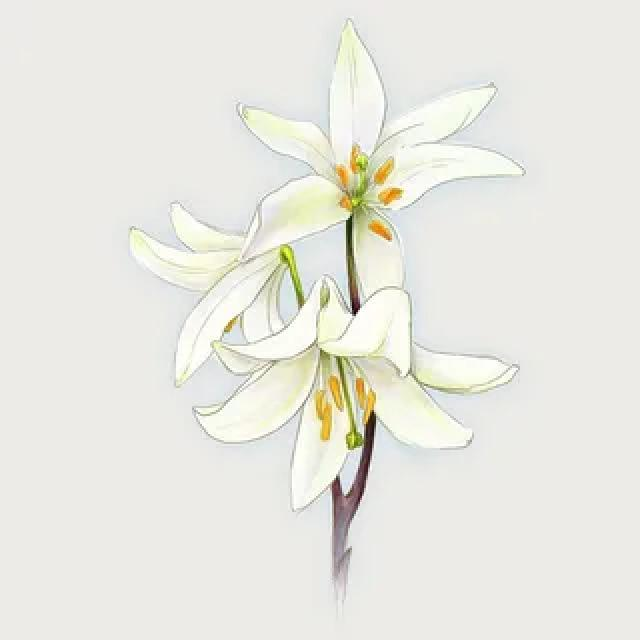lily: (184, 271, 494, 507)
